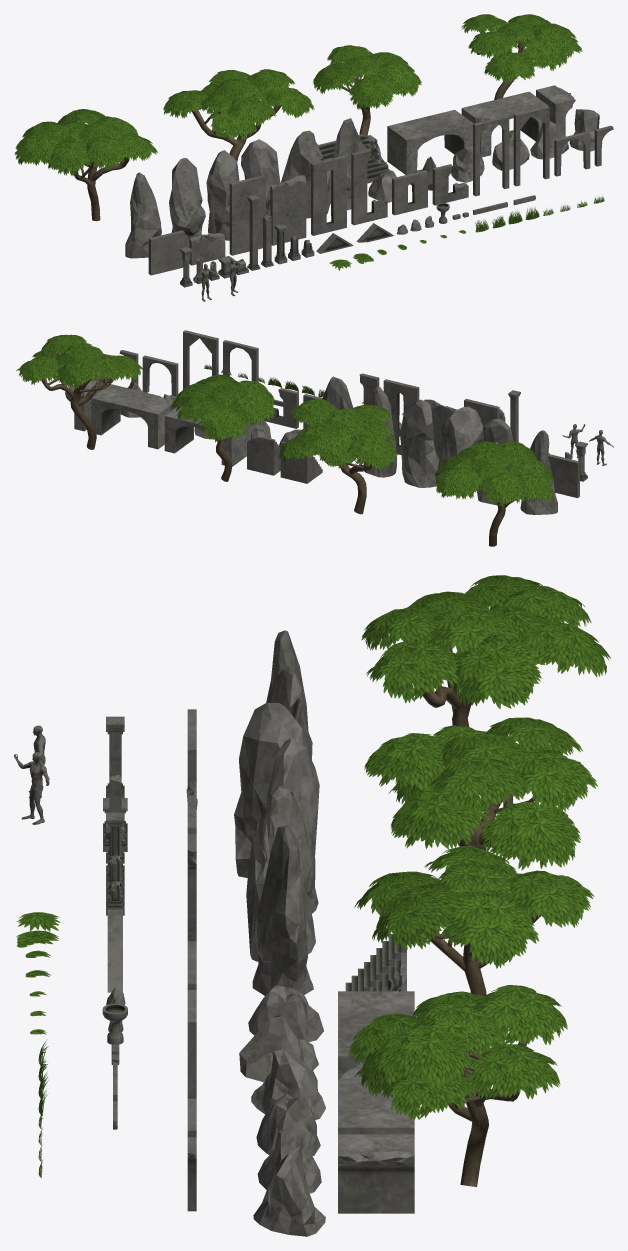
The model's file is temple_ruins.glb.
3 renders of one model, top to bottom at view 1: azimuth 30°, elevation 25°; view 2: azimuth 150°, elevation 25°; view 3: azimuth 270°, elevation 25°, orthographic. The views are drawn at different scales.
Visible parts, largest first — view 1: TreeA, TreeB, TreeD, TreeC, Stone_Bridge_Arch, Tall_Stone_Wall_Window, Tall_RockB, Stone_Bridge_Arch_Broken, Tall_Stone_Wall_Plain, Tall_Stone_Wall_Plain_Broken, Tall_RockA, Tall_RockC (+20 smaller); view 2: TreeB, TreeA, TreeD, TreeC, Stone_Bridge_Arch_Broken, Tall_RockD, Stone_Bridge_Arch, Tall_RockC, Tall_RockA, Stone_Stairs_Broken, Tall_Stone_Wall_Window, Small_Stone_Wall_Plain (+14 smaller); view 3: TreeB, TreeA, TreeD, TreeC, Tall_RockF, Stone_Bridge_Arch_Very_Broken, Tall_RockC, Tall_RockE, Small_RockF, Stone_Bridge_Arch_Broken, Tall_RockD, Stone_Bridge_Arch (+12 smaller).
Boxes of the visible parts, x1,y1,x2,y2 form: TreeA: (14,109,157,221); TreeB: (163,69,314,161); TreeD: (461,14,582,99); TreeC: (313,45,421,135); Stone_Bridge_Arch: (387,109,473,174); Tall_Stone_Wall_Window: (311,155,346,235); Tall_RockB: (169,158,205,247); Stone_Bridge_Arch_Broken: (461,91,548,157); Tall_Stone_Wall_Plain: (229,175,265,255); Tall_Stone_Wall_Plain_Broken: (270,175,306,245); Tall_RockA: (125,172,161,258); Tall_RockC: (206,150,239,240); TreeB: (279,399,397,514); TreeA: (435,441,554,546); TreeD: (16,334,142,449); TreeC: (171,374,275,481); Stone_Bridge_Arch_Broken: (91,384,173,449); Tall_RockD: (400,399,439,487); Stone_Bridge_Arch: (164,406,250,466); Tall_RockC: (436,406,483,496); Tall_RockA: (520,430,557,514); Stone_Stairs_Broken: (247,436,280,475); Tall_Stone_Wall_Window: (383,379,419,455); Small_Stone_Wall_Plain: (548,454,579,498); TreeB: (364,717,598,870); TreeA: (361,575,610,726); TreeD: (348,985,567,1186); TreeC: (354,846,594,996); Tall_RockF: (252,825,313,995); Stone_Bridge_Arch_Very_Broken: (338,1134,414,1213); Tall_RockC: (234,703,307,877); Tall_RockE: (246,785,315,961); Small_RockF: (253,1146,325,1236); Stone_Bridge_Arch_Broken: (338,1062,414,1134); Tall_RockD: (266,738,319,913); Stone_Bridge_Arch: (338,991,414,1076).
Size of the model in its own units: 4.02 by 0.7419 by 1.95.
5 materials, 5 textured.
